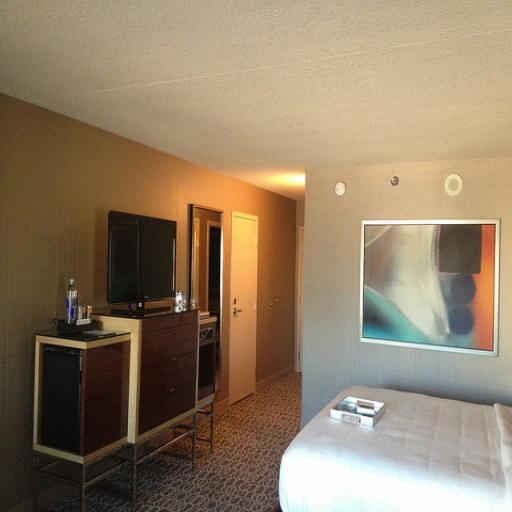bed: (262, 282, 512, 512)
